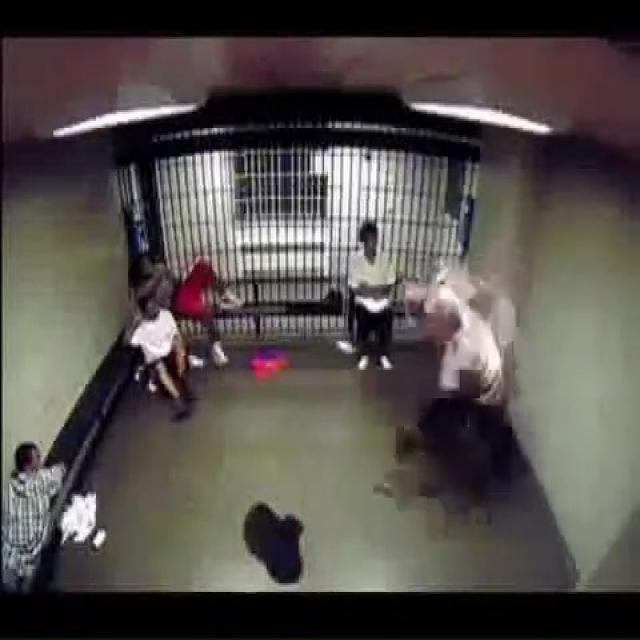fight: (384, 264, 533, 494)
